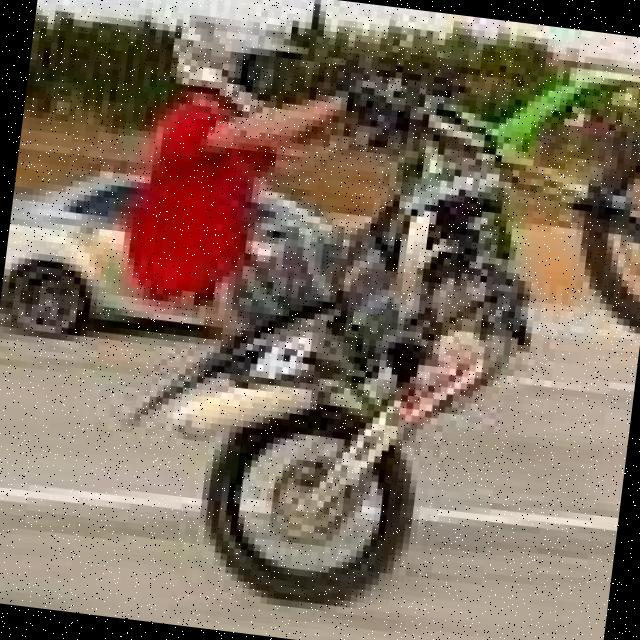Wheeling: (93, 0, 560, 633)
